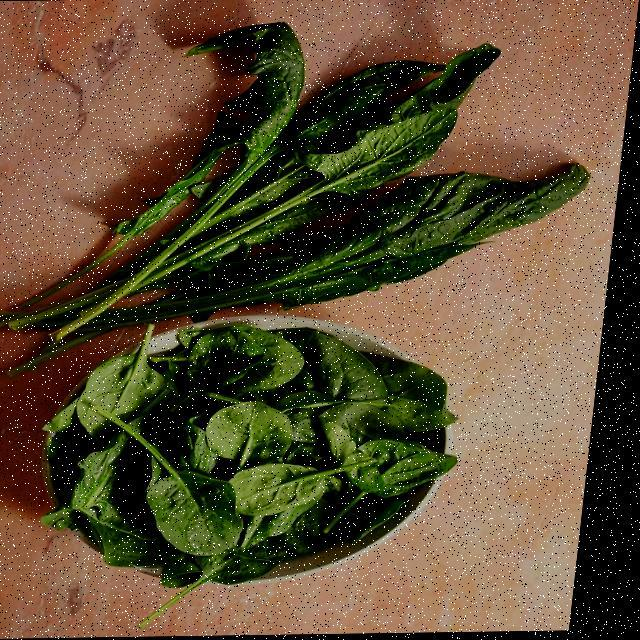Spinach: (0, 7, 620, 379), (45, 316, 484, 588)
